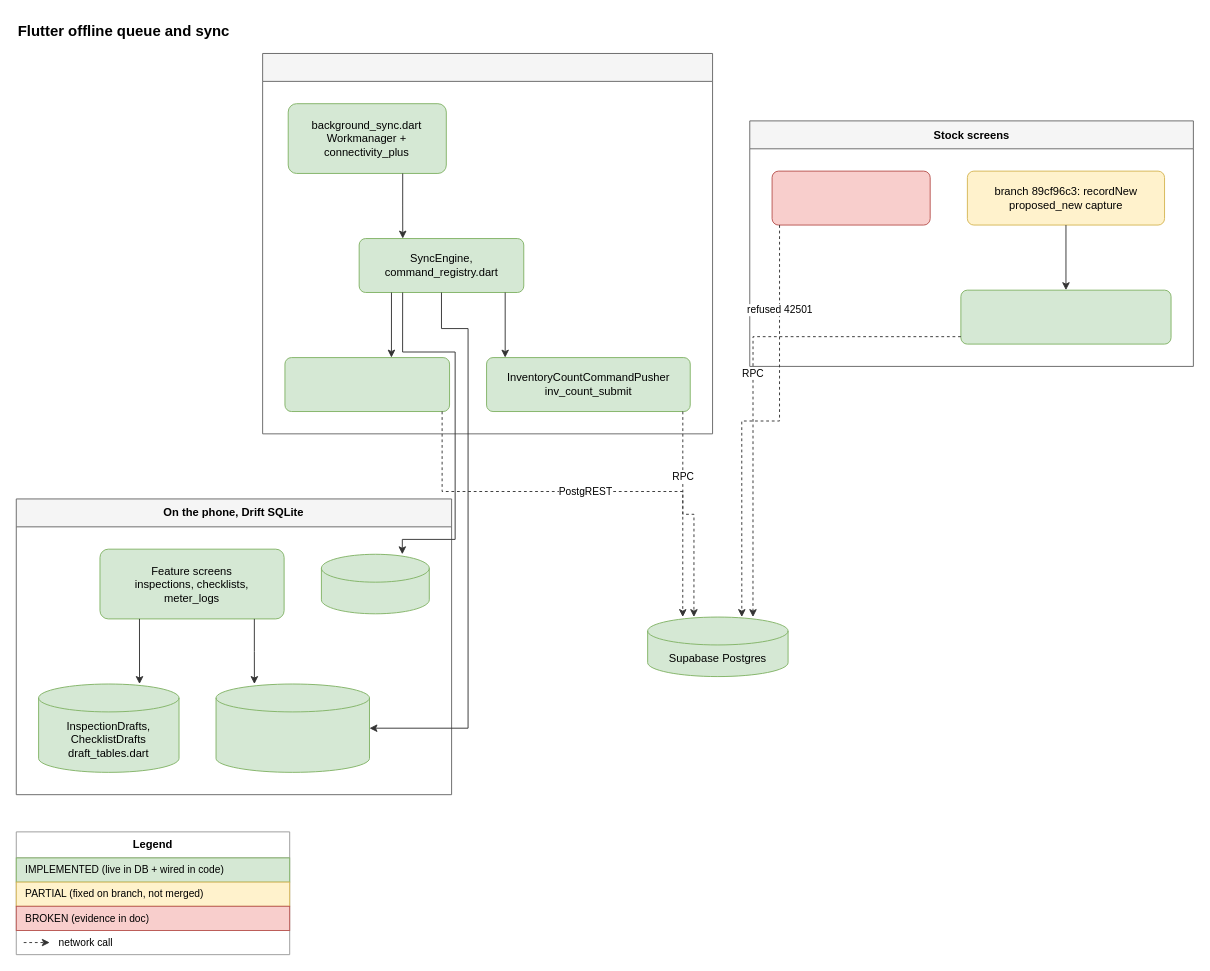
Some shapes in this 1210 by 971 pixel diagram are drawn without their labels. Each missing label, with the box of its shape:
main: Add stock stock_records insert: (771, 170, 930, 225)
PendingCommands, PendingMediaUploads queue_tables.dart: (215, 683, 369, 772)
physical_capture_outbox.dart inv_pi_capture: (960, 289, 1171, 344)
SupabaseCommandPusher insert / update by id: (284, 357, 450, 412)
Sync runtime: (262, 53, 713, 434)
SyncFailures: (320, 553, 429, 614)
